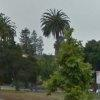Palm tree: (39, 4, 74, 71)
